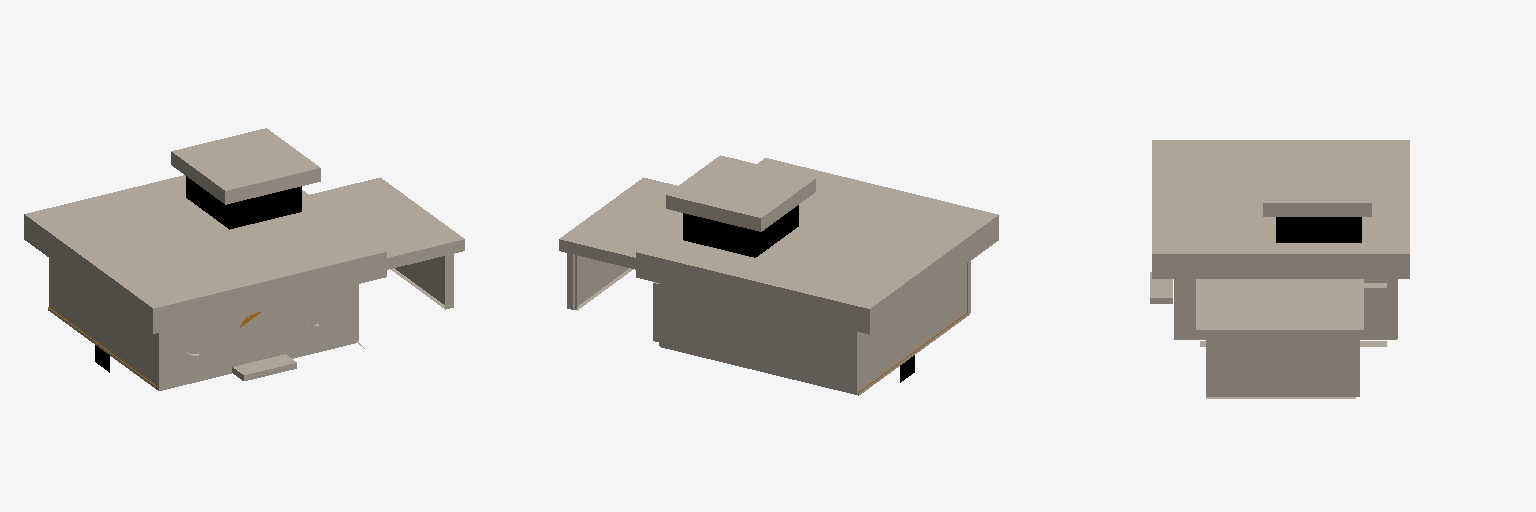
3 renders of one model, left to right at view 1: azimuth 30°, elevation 25°; view 2: azimuth 150°, elevation 25°; view 3: azimuth 270°, elevation 25°, orthographic.
Parts seen in each view (by area): view 1: pCube43; view 2: pCube43; view 3: pCube43.
Boxes of the visible parts, <box> form: pCube43: <box>24,128,464,390</box>; pCube43: <box>559,155,998,395</box>; pCube43: <box>1150,140,1409,398</box>.
Bounding box in the file's own units: 55.62 × 25.72 × 37.52.
6 materials, 4 textured.